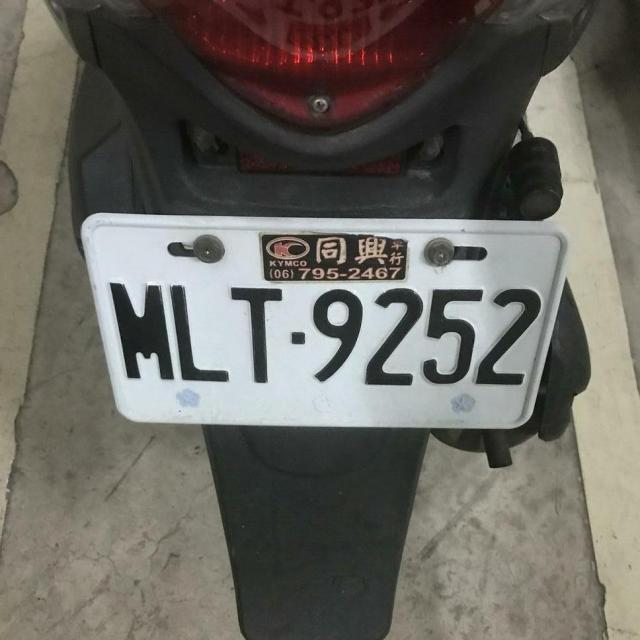W: (79, 201, 558, 446)
